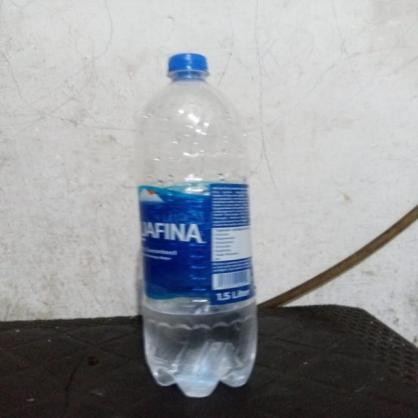bottle: (124, 41, 267, 402)
cap: (154, 51, 216, 84)
label: (132, 177, 262, 309)
